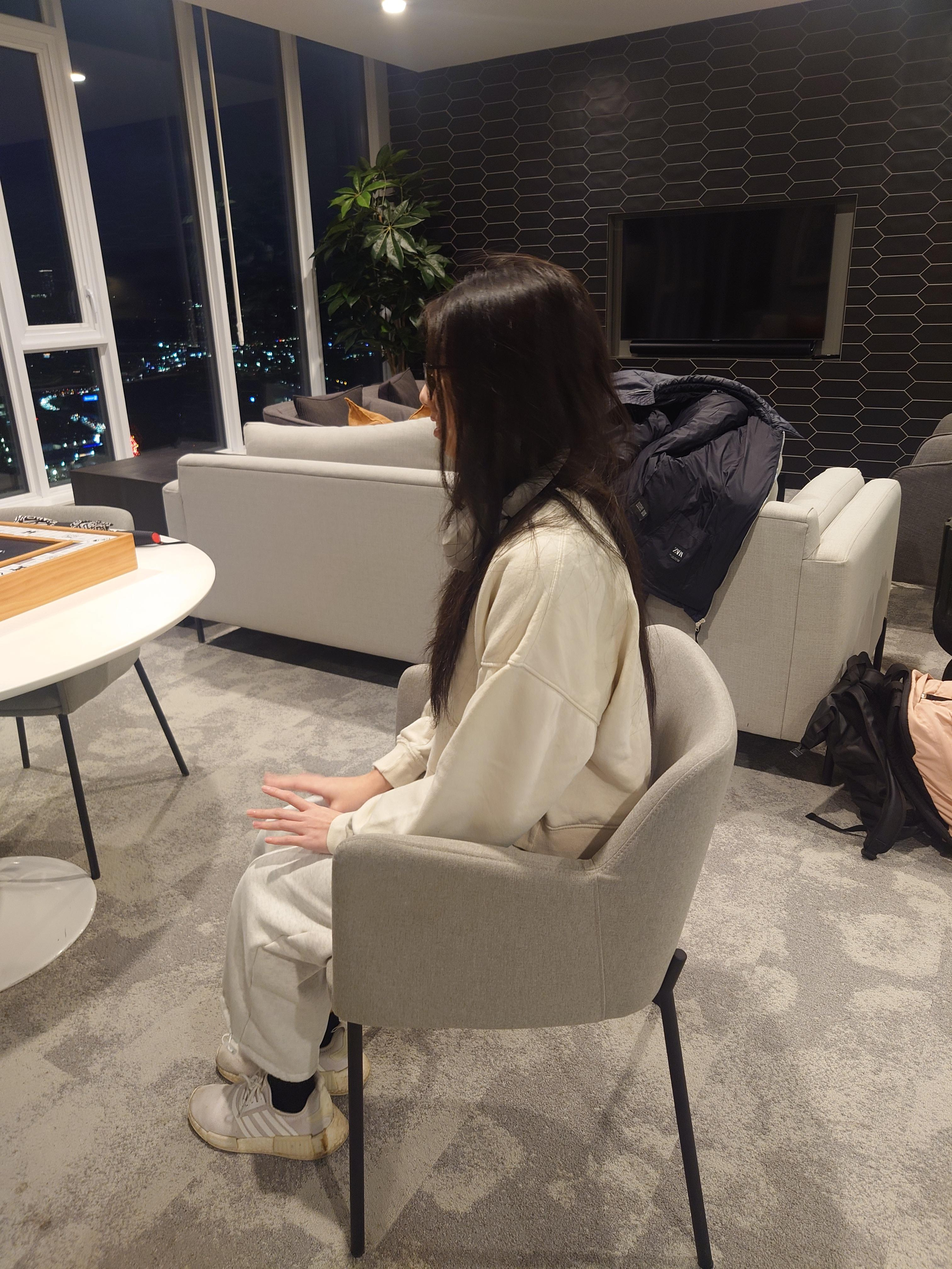GoodPosture: (188, 252, 660, 1164)
